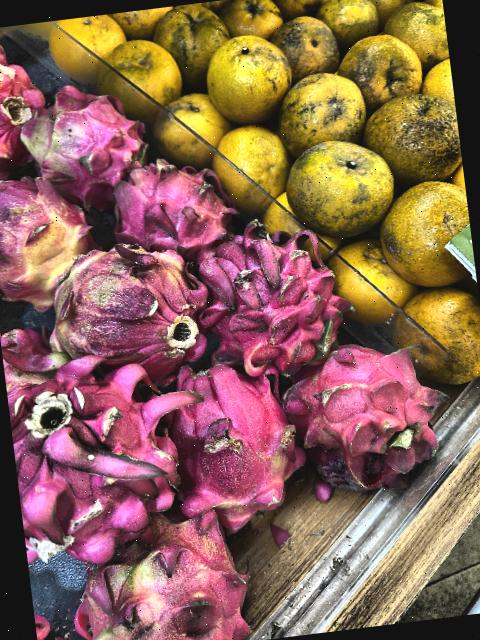buah-naga-belum-matang: (41, 234, 223, 384), (56, 517, 257, 640), (0, 161, 91, 303), (20, 86, 141, 188)
buah-naga-matang: (4, 350, 188, 555), (274, 328, 452, 491), (156, 350, 312, 529), (188, 215, 340, 371), (104, 152, 258, 266), (0, 41, 51, 153)
